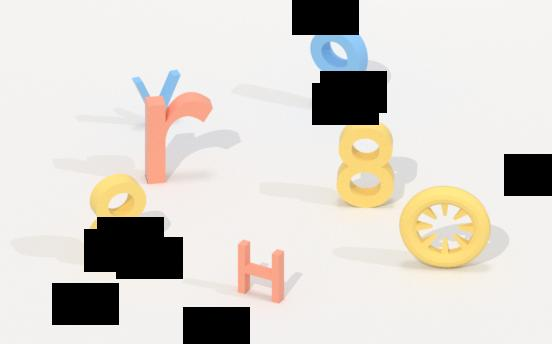8: (83, 175, 152, 265), (332, 121, 399, 212)
9: (307, 25, 373, 112)
H-hoa: (233, 239, 290, 304)
R: (140, 91, 227, 187)
tron: (393, 186, 497, 270)
v: (128, 69, 186, 108)
